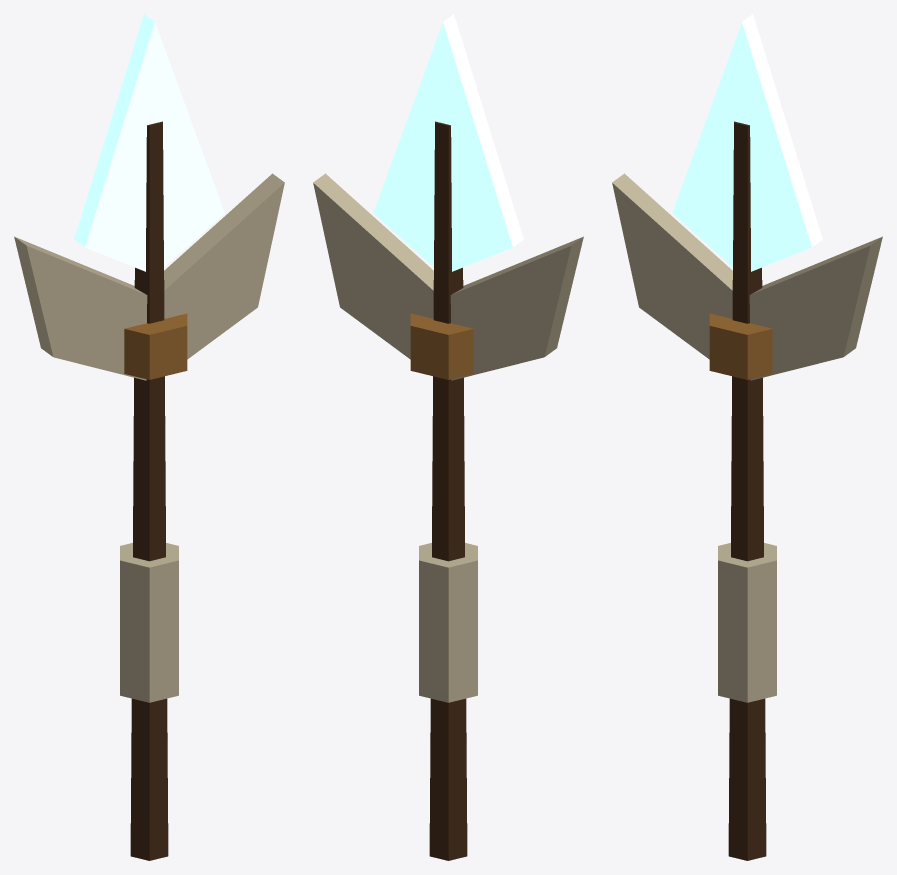
The model's file is mothglass_spear.glb.
3 views of the same model, side by side, from view 1: azimuth 30°, elevation 25°; view 2: azimuth 150°, elevation 25°; view 3: azimuth 330°, elevation 25° (orthographic).
Visible parts, largest first — view 1: mothglass_spear; view 2: mothglass_spear; view 3: mothglass_spear.
Part boxes in pixels (x1,y1,x2,y2): mothglass_spear: (14,14,284,860); mothglass_spear: (313,14,583,860); mothglass_spear: (612,14,882,860).
Bounding box in the file's own units: 0.48 × 1.48 × 0.1212.
